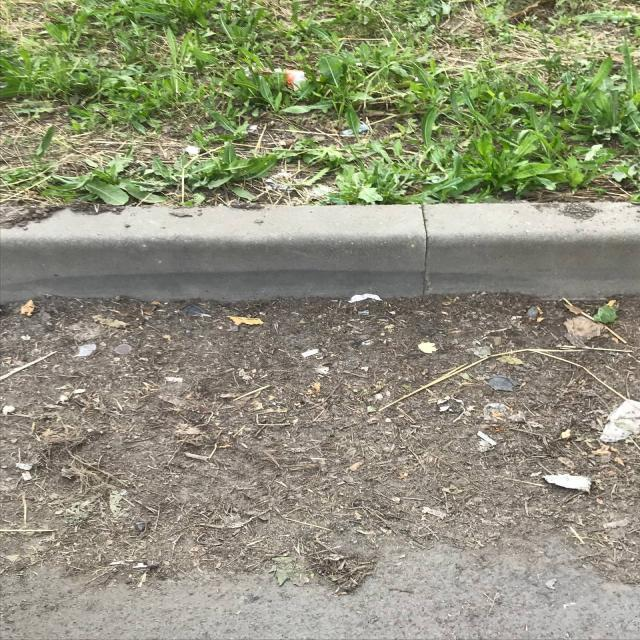bump: (0, 188, 639, 314)
